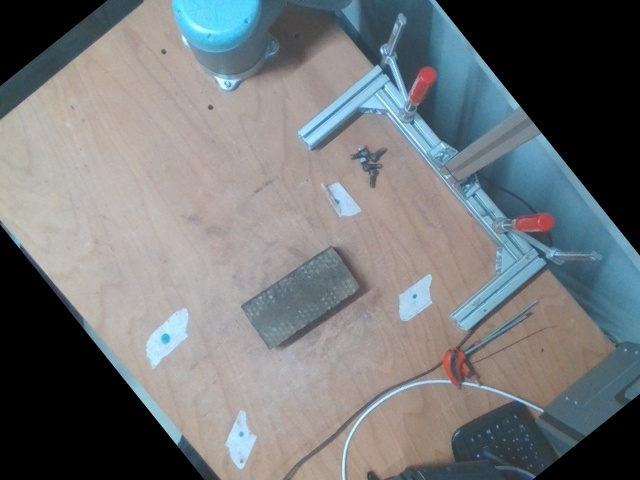brick: (239, 246, 364, 352)
